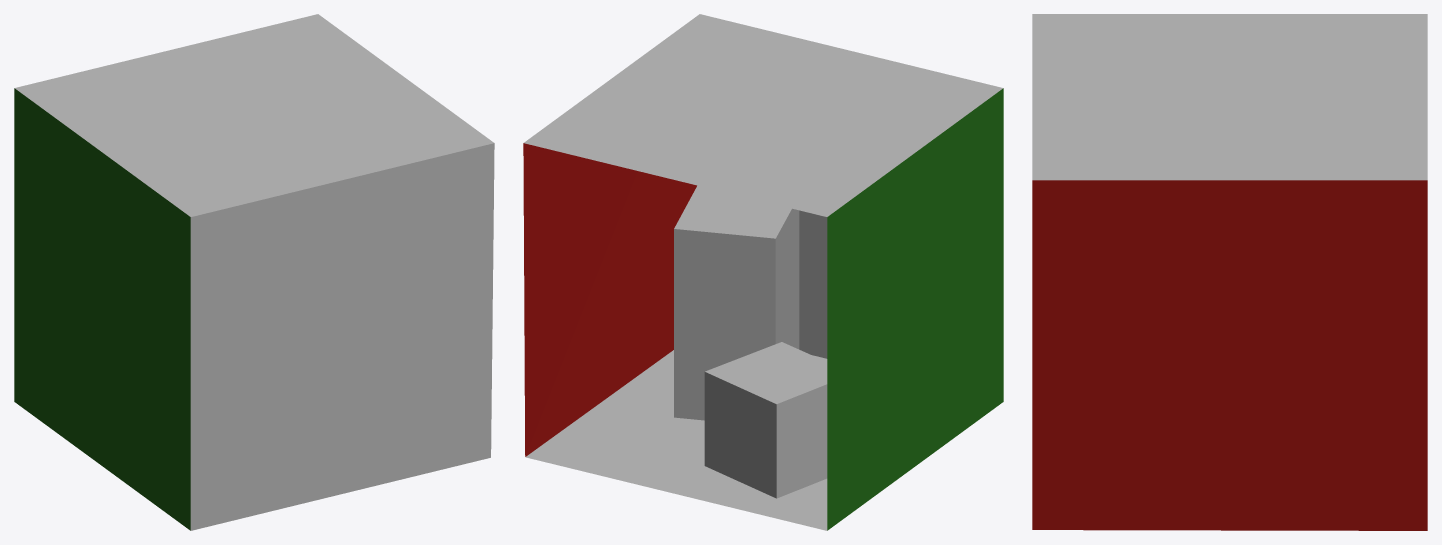
The model's file is cornell_embree_tri.obj.
3 renders of one model, left to right at view 1: azimuth 30°, elevation 25°; view 2: azimuth 150°, elevation 25°; view 3: azimuth 270°, elevation 25°, orthographic. The views are drawn at different scales.
Parts seen in each view (by area): view 1: back_wall, green_wall, ceiling; view 2: green_wall, ceiling, red_wall, tall_block, floor, short_block, back_wall; view 3: red_wall, ceiling.
Boxes of the visible parts, box(x1,y1,x2,y2) form: back_wall: box(190, 143, 494, 530); green_wall: box(14, 88, 190, 530); ceiling: box(14, 14, 493, 216); green_wall: box(827, 88, 1003, 530); ceiling: box(524, 14, 1003, 216); red_wall: box(523, 143, 696, 456); tall_block: box(674, 185, 799, 420); floor: box(525, 350, 827, 530); short_block: box(704, 342, 827, 498); back_wall: box(799, 210, 827, 358); red_wall: box(1032, 180, 1427, 530); ceiling: box(1032, 14, 1427, 180).
Bounding box in the file's own units: 556 × 549 × 559.
